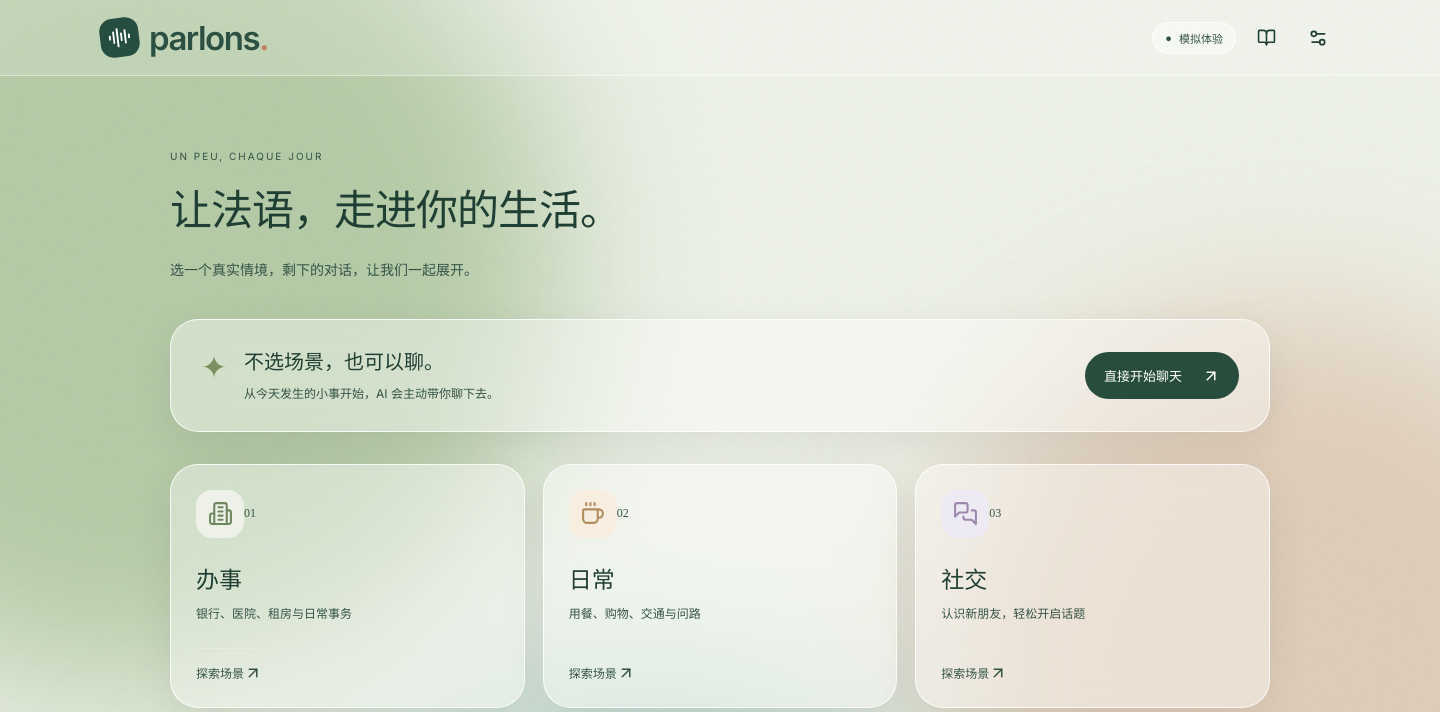
Test: shows Camille’s female assistant avatar and plays her opening introduction once
Click the button "直接开始聊天". click: (1162, 376)
box: [1085,352,1239,399]
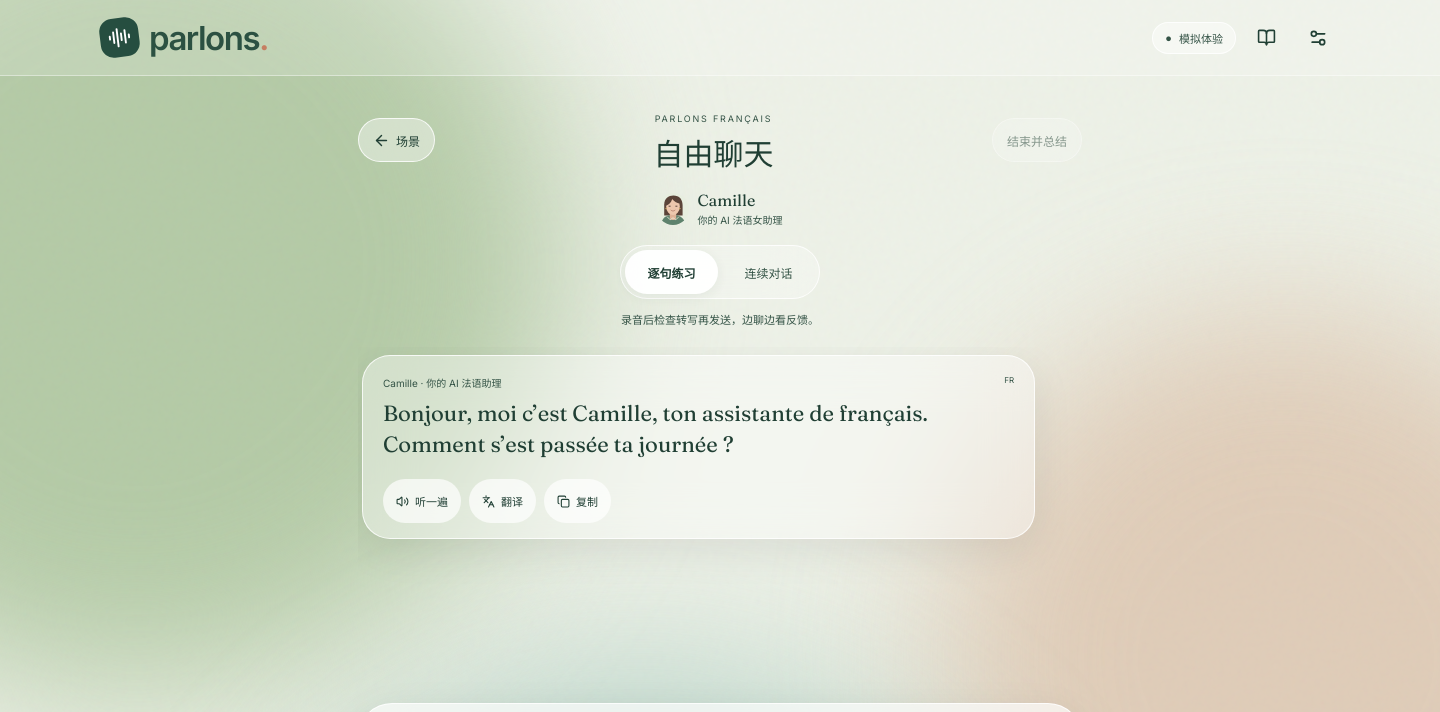
Check: the text "Camille" is shown, box [697,190,755,210]
Check: the picture named "Camille" is shown, box [657,192,689,224]
